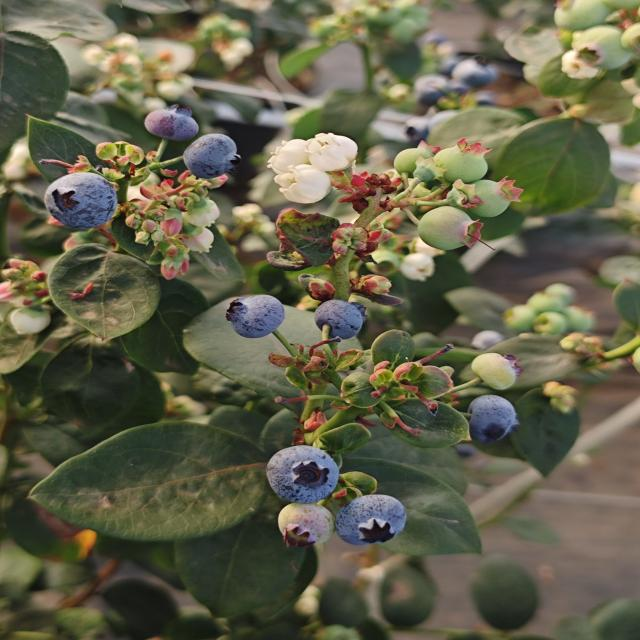ripe: (259, 446, 348, 503), (338, 487, 412, 544), (45, 172, 120, 225), (314, 293, 376, 344), (175, 130, 242, 176), (225, 295, 290, 340), (475, 386, 522, 442), (145, 101, 207, 143), (406, 67, 462, 104), (447, 55, 502, 91), (398, 116, 442, 143)
